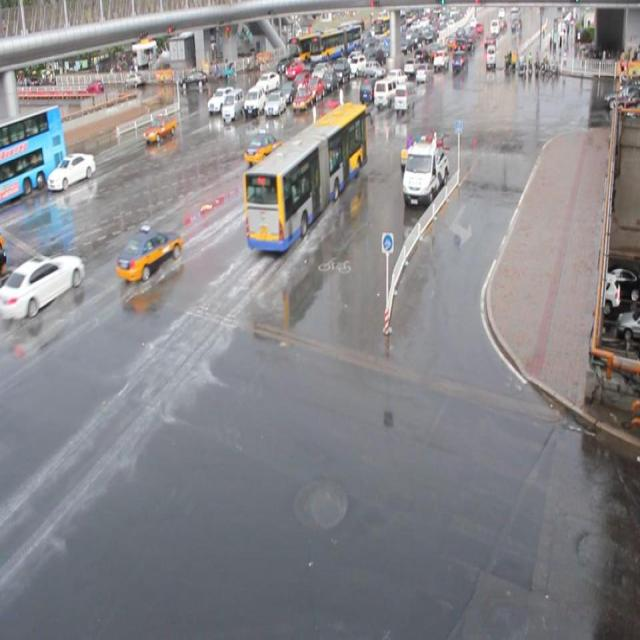bus: (402, 137, 449, 206)
car: (12, 254, 85, 318), (115, 225, 183, 280), (47, 152, 96, 190), (243, 128, 284, 164), (265, 144, 300, 182), (300, 118, 333, 156), (143, 112, 177, 143), (319, 99, 346, 131), (207, 86, 236, 112), (358, 75, 382, 103), (265, 92, 286, 117), (292, 87, 312, 113), (255, 72, 279, 93), (305, 77, 324, 102), (279, 80, 298, 104), (292, 72, 311, 94)
truck: (372, 78, 399, 109), (222, 88, 245, 120), (393, 82, 415, 115), (246, 85, 268, 116)
van: (242, 101, 368, 252), (1, 103, 68, 206)
